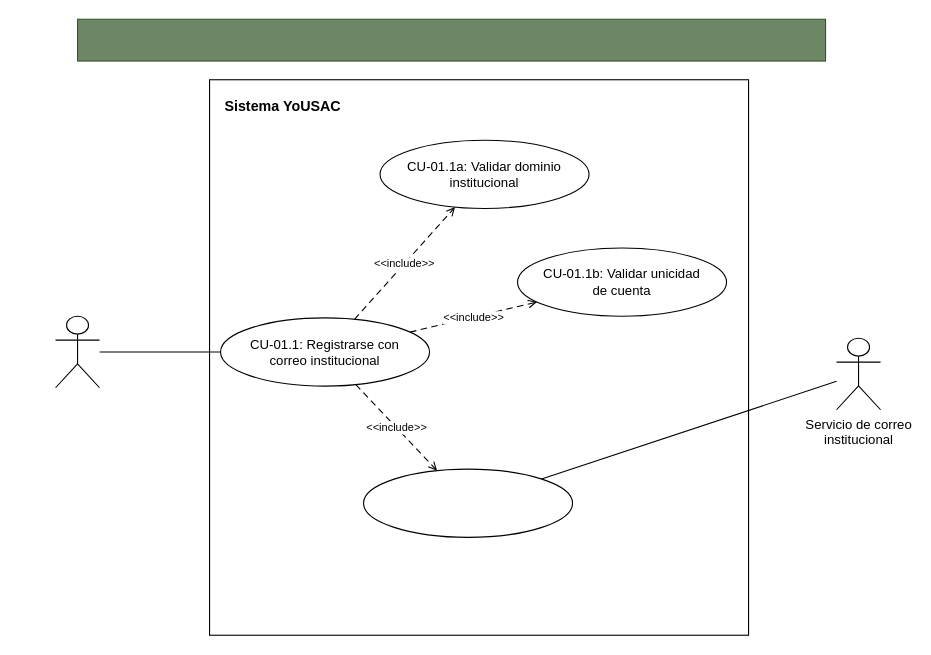
Some shapes in this 931 by 655 pixel diagram are drawn without their labels. The shapes that lost their labels are listed below. From the top down, each one's centre as x and y in pixels, then its label:
the point at 451,39: Plataforma YoUSAC — CU-01.1 — Registrarse con correo institucional
the point at 77,351: Usuario institucional
the point at 467,502: CU-01.1c: Enviar confirmación de registro
